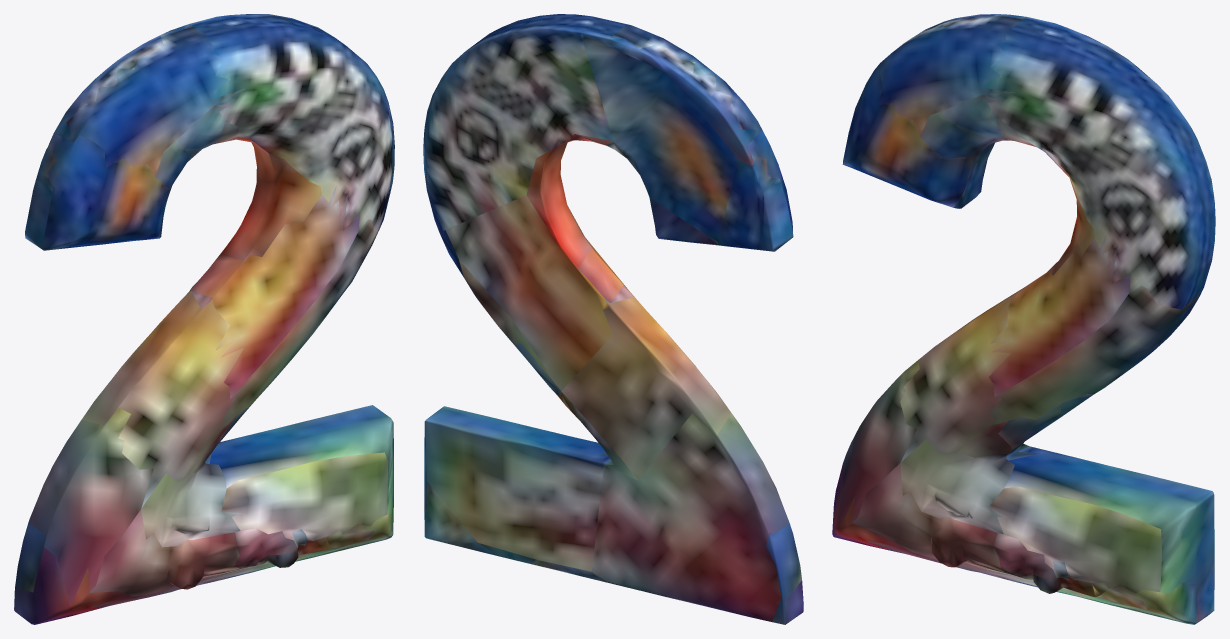
The picture shows the model from 3 angles, left to right: view 1: azimuth 30°, elevation 25°; view 2: azimuth 150°, elevation 25°; view 3: azimuth 330°, elevation 25°; orthographic projection.
Size of the model in its own units: 0.3754 by 0.5394 by 0.0747.
Materials: 1 (1 with a texture image).
